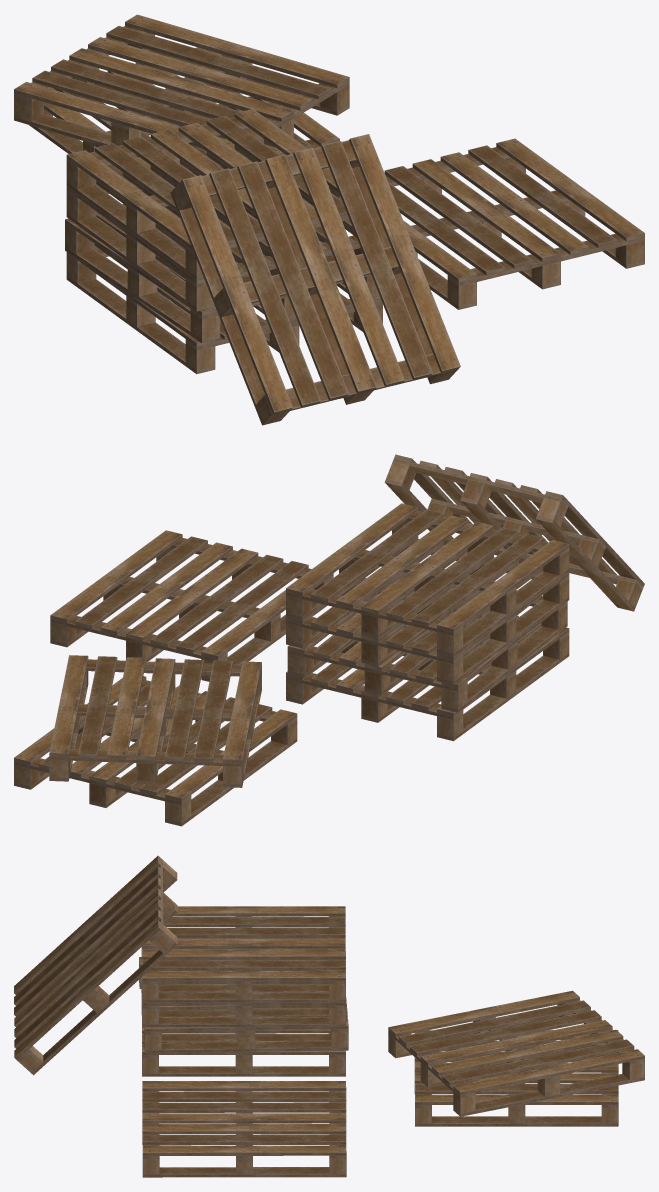
File: pallets.glb
3 views of the same model, one above another, from view 1: azimuth 30°, elevation 25°; view 2: azimuth 150°, elevation 25°; view 3: azimuth 270°, elevation 25° (orthographic). The views are drawn at different scales.
Parts seen in each view (by area): view 1: Pallet_03_Pallet_0, Pallet_04_Pallet_0, Pallet_02_Pallet_0, Pallet_01_Pallet_0; view 2: Pallet_04_Pallet_0, Pallet_02_Pallet_0, Pallet_01_Pallet_0, Pallet_03_Pallet_0; view 3: Pallet_04_Pallet_0, Pallet_02_Pallet_0, Pallet_01_Pallet_0, Pallet_03_Pallet_0.
Boxes of the visible parts, bbox=[...] form: Pallet_03_Pallet_0: bbox=[170, 134, 460, 425]; Pallet_04_Pallet_0: bbox=[65, 109, 382, 374]; Pallet_02_Pallet_0: bbox=[14, 14, 349, 196]; Pallet_01_Pallet_0: bbox=[328, 138, 644, 309]; Pallet_04_Pallet_0: bbox=[286, 503, 569, 741]; Pallet_02_Pallet_0: bbox=[14, 655, 297, 826]; Pallet_01_Pallet_0: bbox=[50, 530, 333, 681]; Pallet_03_Pallet_0: bbox=[384, 454, 644, 611]; Pallet_04_Pallet_0: bbox=[139, 906, 348, 1076]; Pallet_02_Pallet_0: bbox=[388, 990, 644, 1126]; Pallet_01_Pallet_0: bbox=[142, 1081, 346, 1177]; Pallet_03_Pallet_0: bbox=[14, 855, 177, 1075].
Size of the model in its own units: 2.43 by 0.9617 by 3.71.
1 material, 1 textured.
